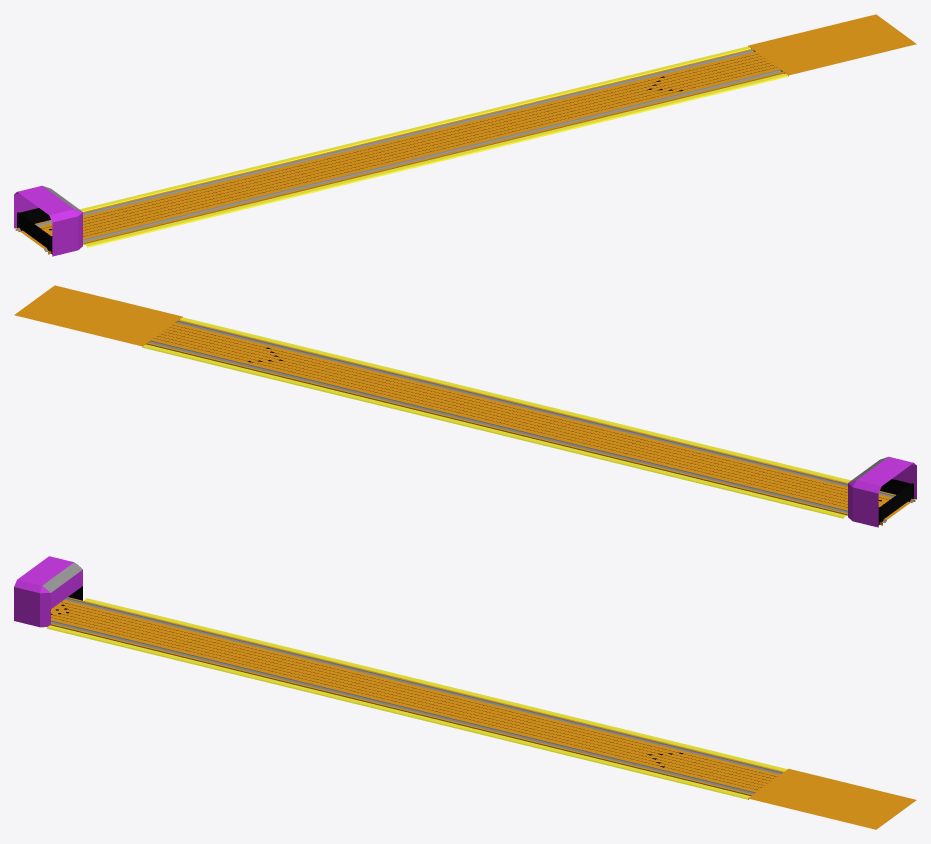
Rendered from Bowling_track.fbx.
3 renders of one model, top to bottom at view 1: azimuth 30°, elevation 25°; view 2: azimuth 150°, elevation 25°; view 3: azimuth 330°, elevation 25°, orthographic.
Parts seen in each view (by area): view 1: Bowling_track; view 2: Bowling_track; view 3: Bowling_track.
Boxes of the visible parts, box(x1,y1,x2,y2) form: Bowling_track: box(14, 14, 916, 256); Bowling_track: box(14, 285, 916, 527); Bowling_track: box(14, 556, 916, 829).
Bounding box in the file's own units: 2254 × 97.21 × 184.
